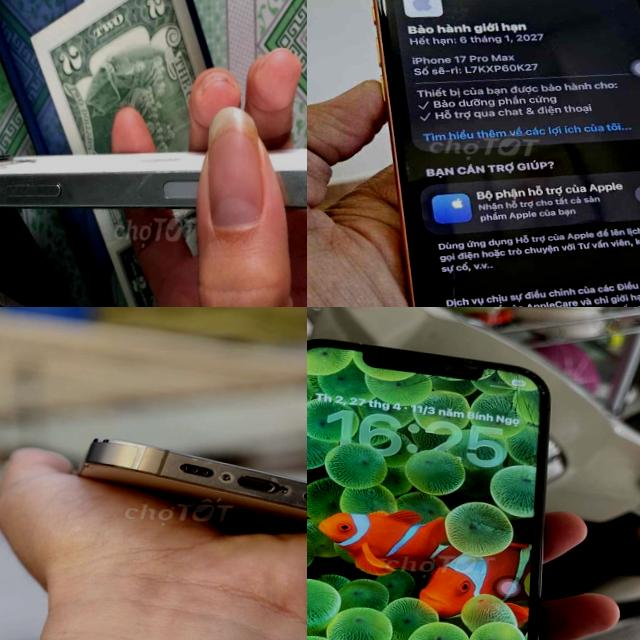physical_damage: (78, 456, 124, 473)
scratch: (0, 161, 67, 217), (122, 160, 154, 206), (264, 473, 302, 508), (168, 448, 228, 469), (454, 354, 484, 370), (530, 372, 548, 397), (212, 466, 234, 484), (510, 364, 530, 378), (488, 360, 507, 370)
